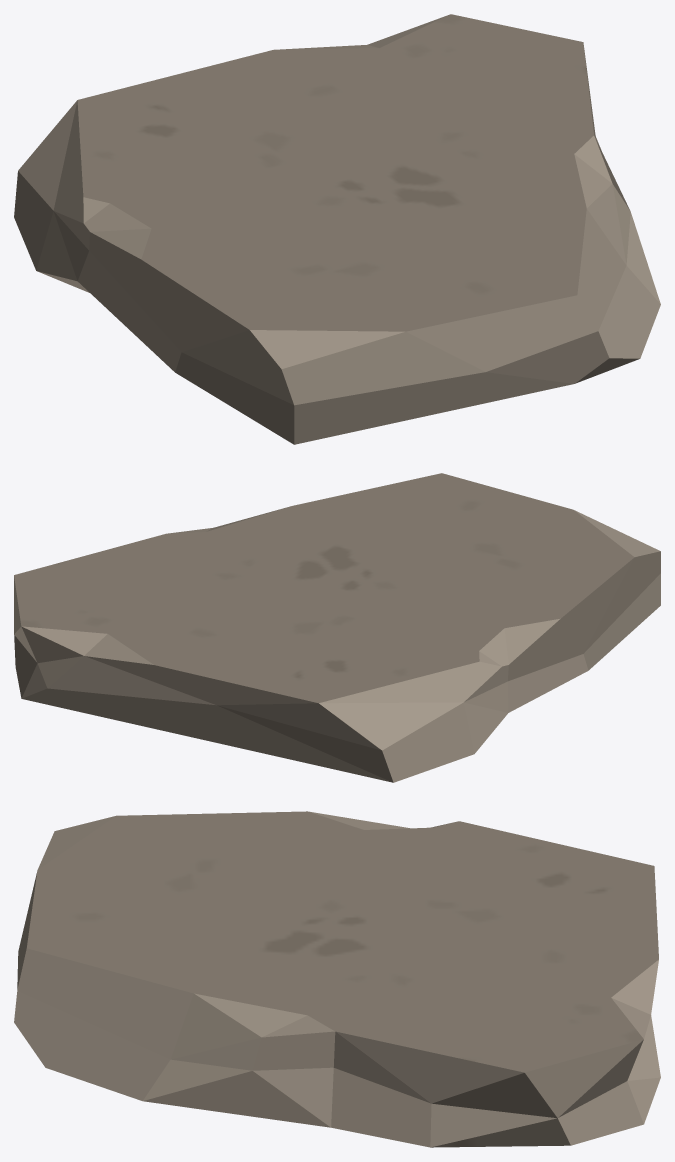
File: pit_rubble_slab.gltf
3 views of the same model, one above another, from view 1: azimuth 30°, elevation 25°; view 2: azimuth 150°, elevation 25°; view 3: azimuth 270°, elevation 25° (orthographic). The views are drawn at different scales.
Parts seen in each view (by area): view 1: pit_rubble_slab; view 2: pit_rubble_slab; view 3: pit_rubble_slab.
Boxes of the visible parts, x1,y1,x2,y2 form: pit_rubble_slab: [14, 14, 660, 444]; pit_rubble_slab: [14, 473, 660, 782]; pit_rubble_slab: [14, 811, 660, 1147].
Bounding box in the file's own units: 3.76 × 0.5721 × 3.93.
Materials: 1 (1 with a texture image).
